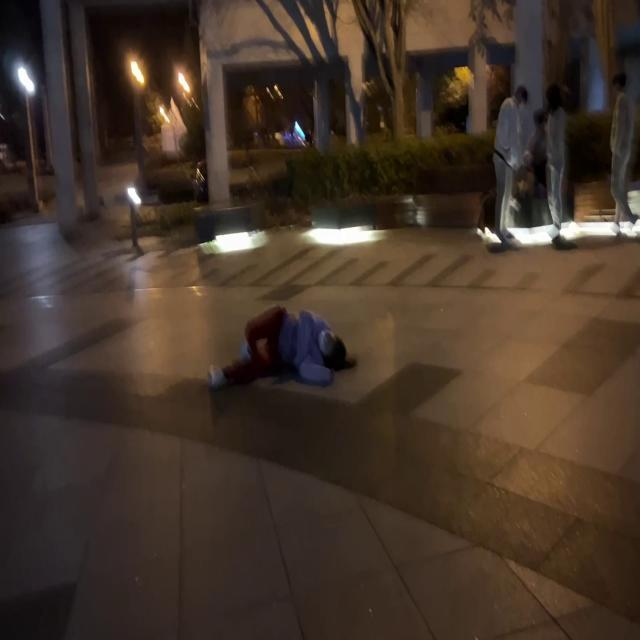Fall: (208, 306, 356, 392)
Stand: (490, 87, 531, 252), (547, 84, 578, 250), (612, 72, 638, 236)
